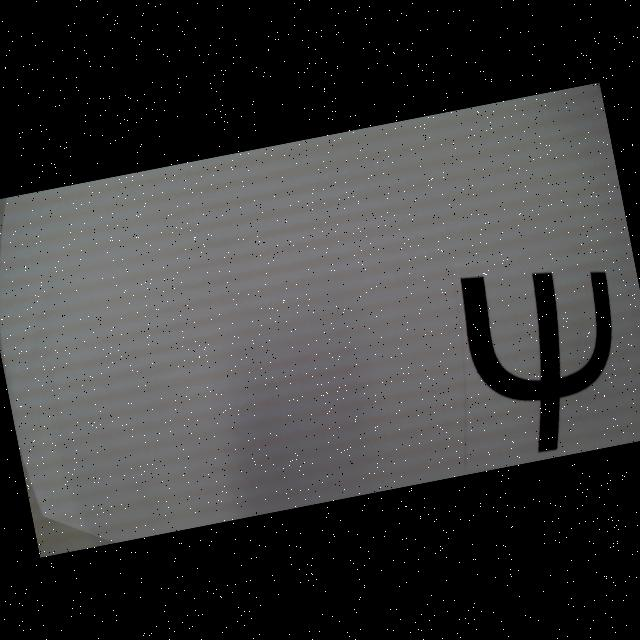PSI: (454, 251, 638, 464)
